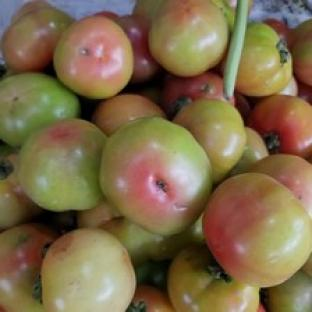Tomato: (99, 117, 211, 235), (204, 173, 311, 286), (19, 119, 105, 211), (41, 229, 135, 311), (53, 16, 133, 98), (173, 99, 246, 183), (168, 244, 259, 311), (0, 72, 80, 147), (0, 223, 58, 311), (0, 6, 75, 72), (101, 218, 204, 264), (236, 23, 292, 97), (247, 95, 311, 158), (250, 154, 311, 217), (91, 92, 165, 136), (0, 152, 41, 231), (161, 70, 227, 119), (115, 13, 160, 83), (229, 127, 268, 176), (267, 271, 311, 311), (76, 198, 119, 228), (126, 285, 175, 311), (292, 30, 311, 86), (264, 17, 293, 50), (297, 81, 311, 104), (301, 254, 311, 277)
